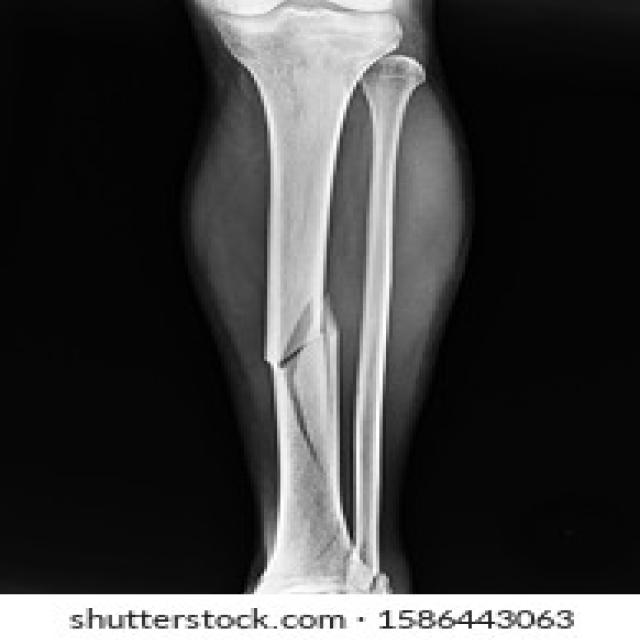fracture: (228, 282, 357, 478)
